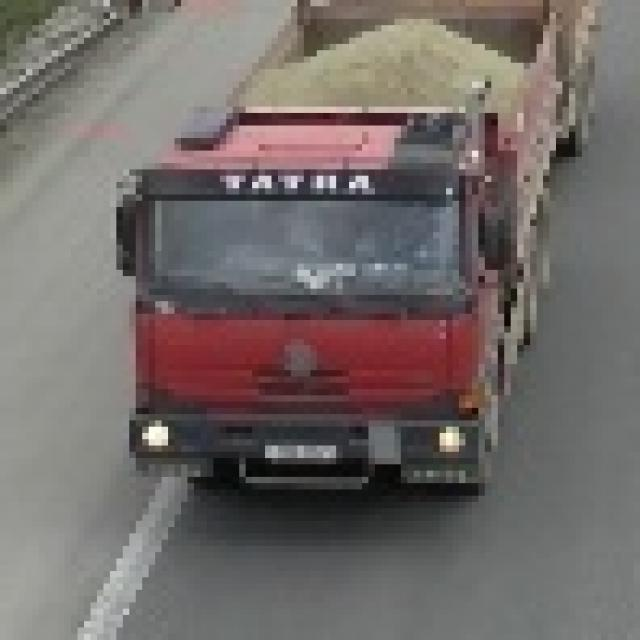truck: (123, 0, 602, 496)
